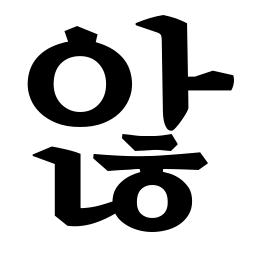Gaji: (152, 63, 207, 111)
